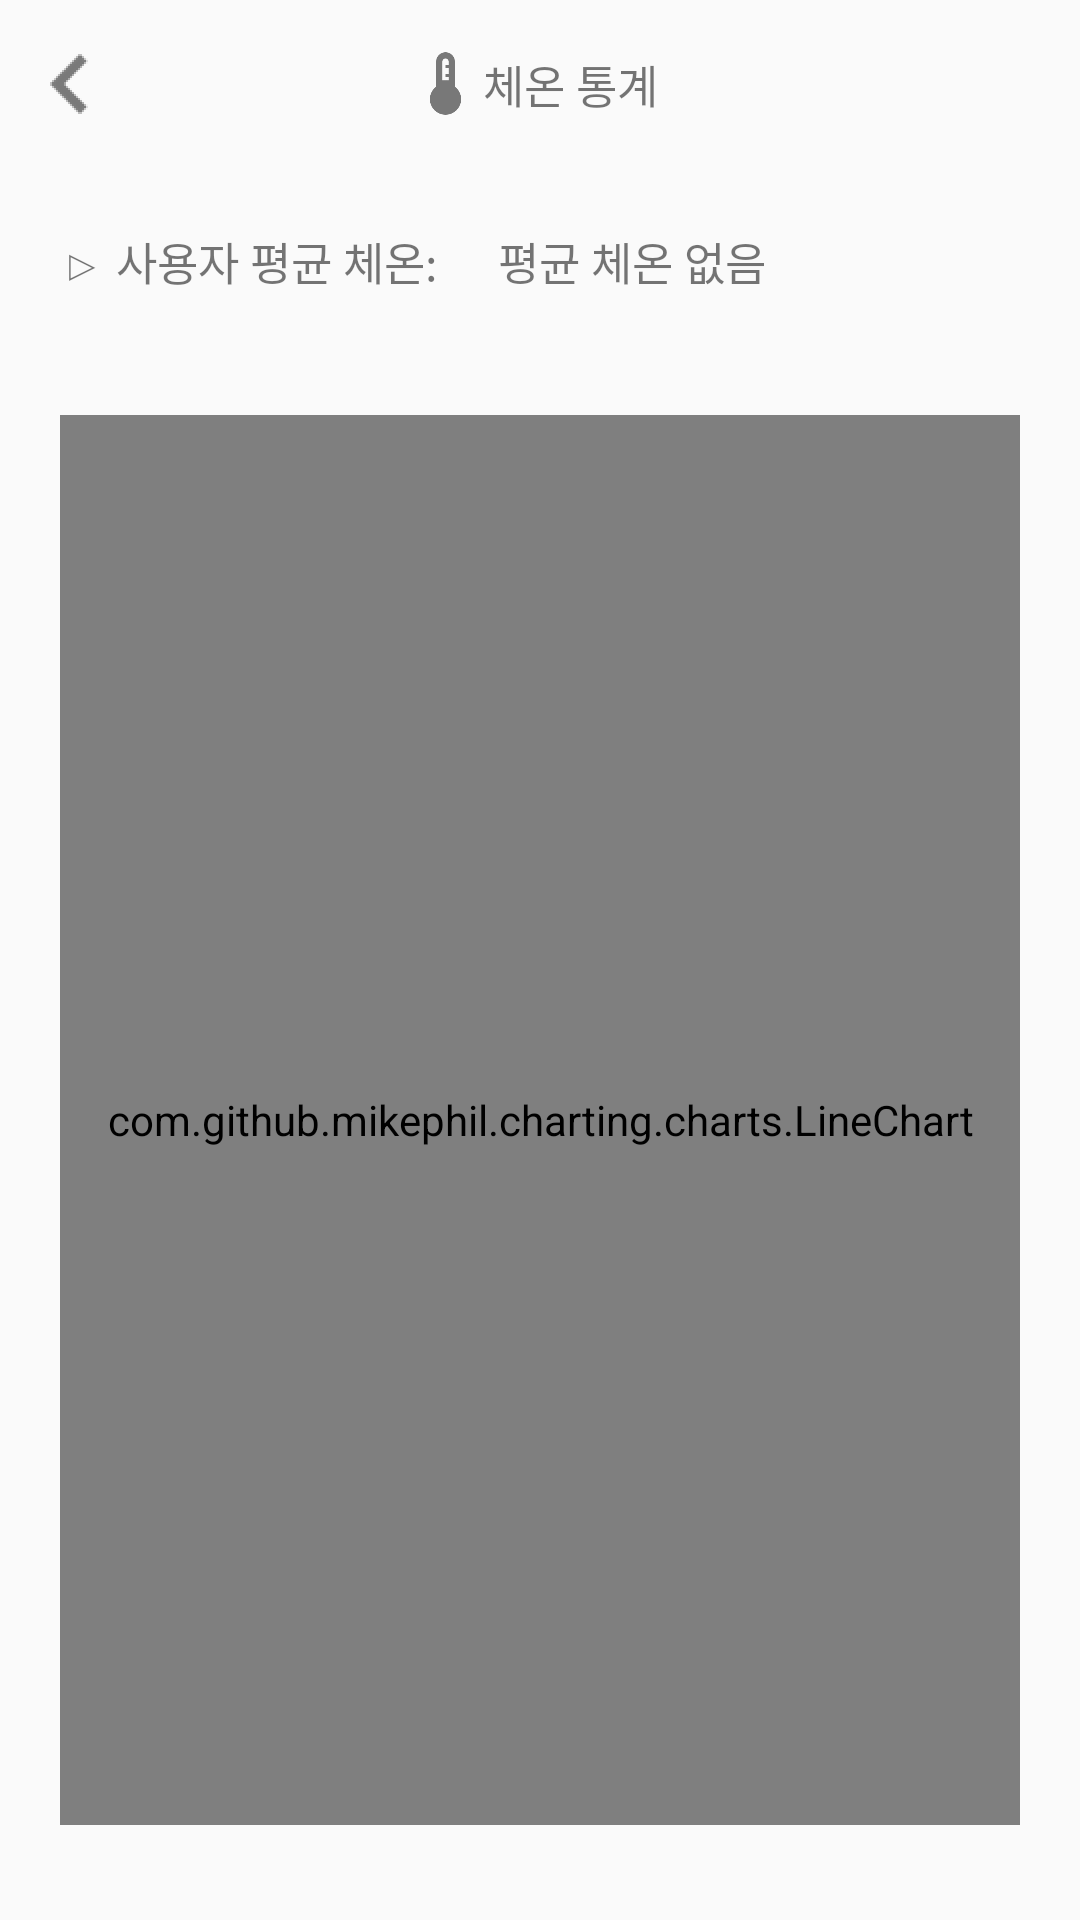

Icon bounding boxes for this 1080x1920 phone screenshot, format (x1, y1, x2, y2):
left: (50, 54, 88, 114)
therma: (430, 52, 461, 115)
